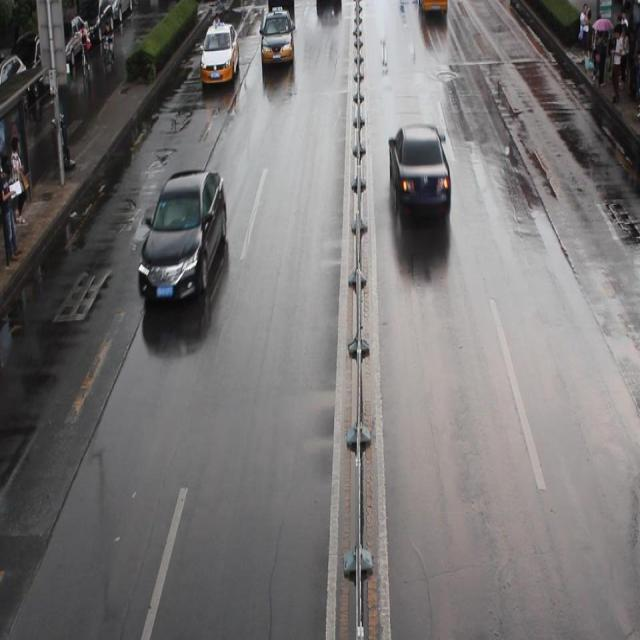car: (137, 168, 227, 305), (387, 123, 450, 210), (198, 18, 238, 86), (260, 1, 295, 66), (418, 2, 447, 15), (267, 1, 296, 12), (315, 1, 341, 11)
